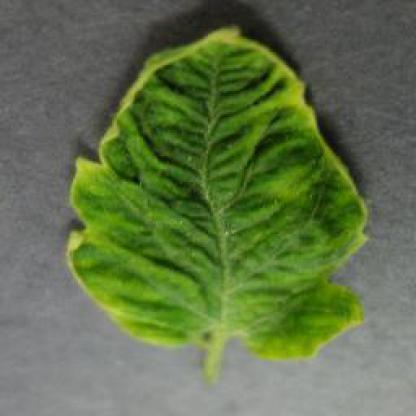bad leaf: (47, 26, 394, 398)
